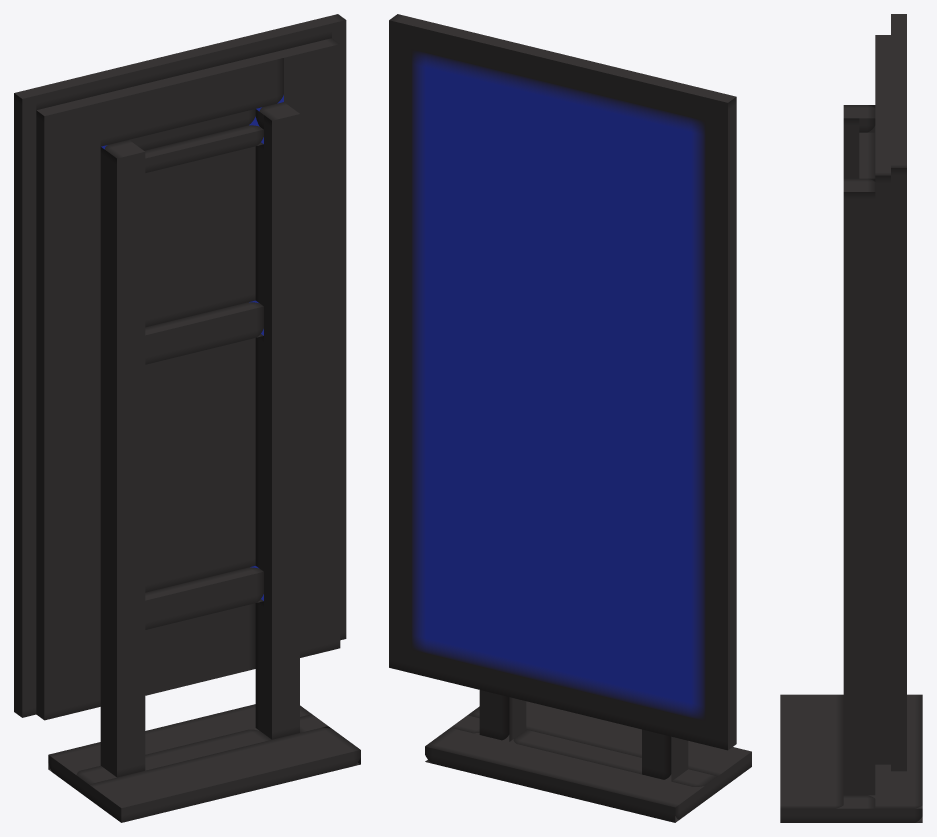
Rendered from lustro.dae.
3 views of the same model, side by side, from view 1: azimuth 30°, elevation 25°; view 2: azimuth 150°, elevation 25°; view 3: azimuth 270°, elevation 25° (orthographic). The views are drawn at different scales.
Visible parts, largest first — view 1: Content; view 2: Content; view 3: Content.
Part boxes in pixels (<box>): Content: <box>14,14,360,822</box>; Content: <box>389,14,751,822</box>; Content: <box>780,14,922,822</box>.
Bounding box in the file's own units: 23 × 47 × 9.
1 material, 1 textured.
